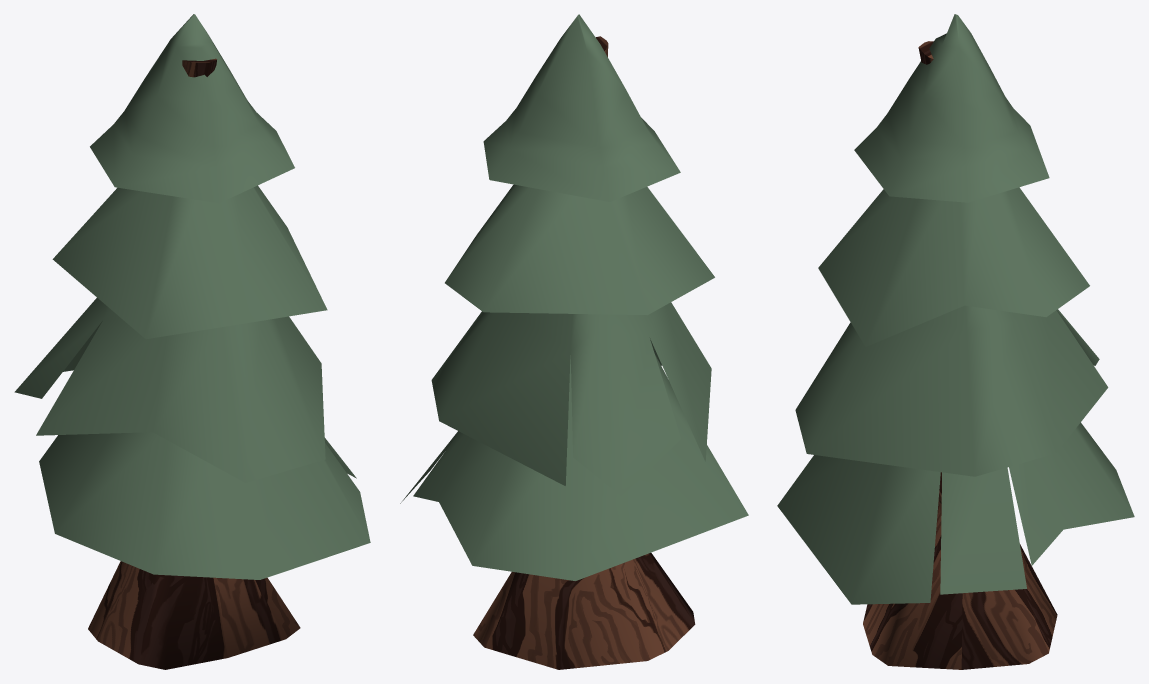
Rendered from Low tree 4.fbx.
3 renders of one model, left to right at view 1: azimuth 30°, elevation 25°; view 2: azimuth 150°, elevation 25°; view 3: azimuth 270°, elevation 25°, orthographic.
Visible parts, largest first — view 1: Pines_4; view 2: Pines_4; view 3: Pines_4.
Boxes of the visible parts, bbox=[...] form: Pines_4: bbox=[14, 14, 370, 669]; Pines_4: bbox=[400, 14, 748, 669]; Pines_4: bbox=[777, 14, 1134, 669].
Bounding box in the file's own units: 9.32 × 17.47 × 9.19.
